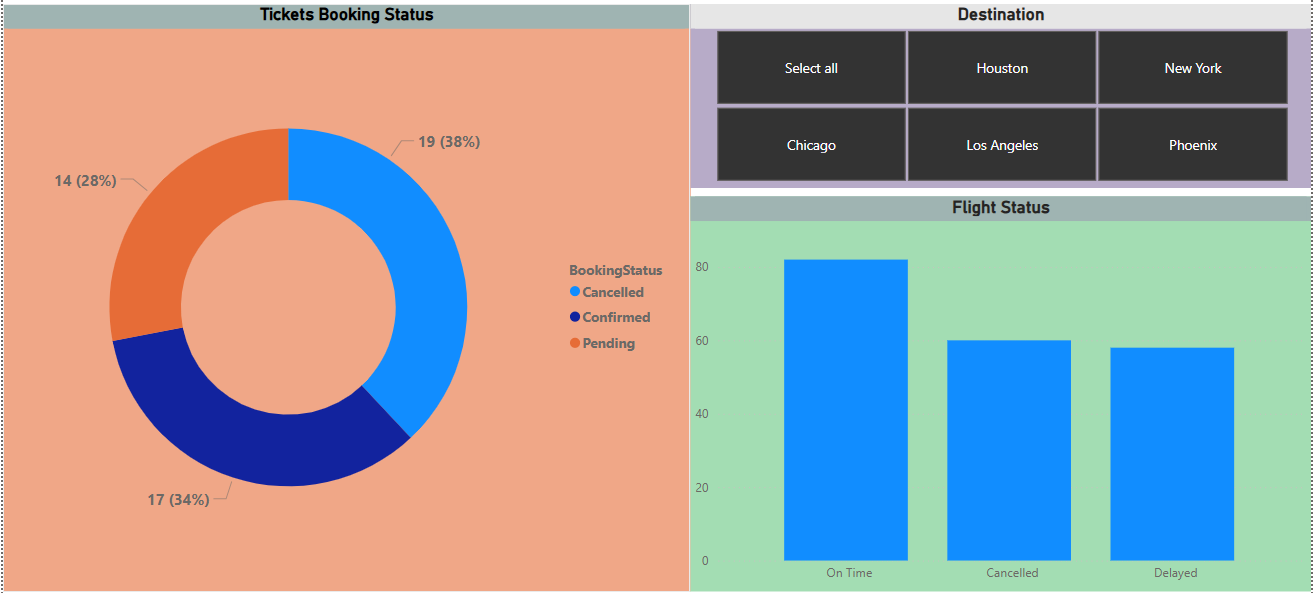

This screenshot's page, from the dashboard's own definition file:
{"tool":"powerbi","page":{"name":"Ticket Distribution","canvas":[1280,720],"ordinal":4},"visuals":[{"type":"donutChart","title":"Tickets Booking Status","fields":{"Category":["Ticket_Information - ticket_information.BookingStatus"],"Y":["Ticket_Information - ticket_information.Total Tickets Booked"]},"box":[0,44,672.6,574.7],"z":0},{"type":"slicer","title":"Destination","fields":{"Values":["Flight_Information - flight_information.Destination"]},"box":[672.6,44,607.7,179.8],"z":1000},{"type":"clusteredColumnChart","title":"Flight Status","fields":{"Category":["Flight_Information - flight_information.Status"],"Y":["CountNonNull(Flight_Information - flight_information.FlightID)"]},"box":[672.6,232.3,607.7,386.4],"z":2000}]}

Visuals, with their boxes on the page's 1280x720 design canvas (x1, y1, x2, y2). These are canvas units, not pixel positions in the 1314x593 screenshot, which may show the page scaled, cropped or inside an application window:
"Tickets Booking Status" donutChart: [0, 44, 673, 619]
"Destination" slicer: [673, 44, 1280, 224]
"Flight Status" clusteredColumnChart: [673, 232, 1280, 619]
